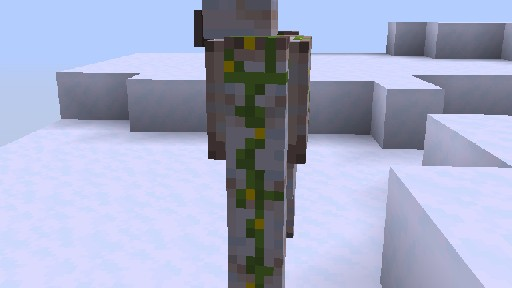iron_golem: (193, 0, 311, 288)
